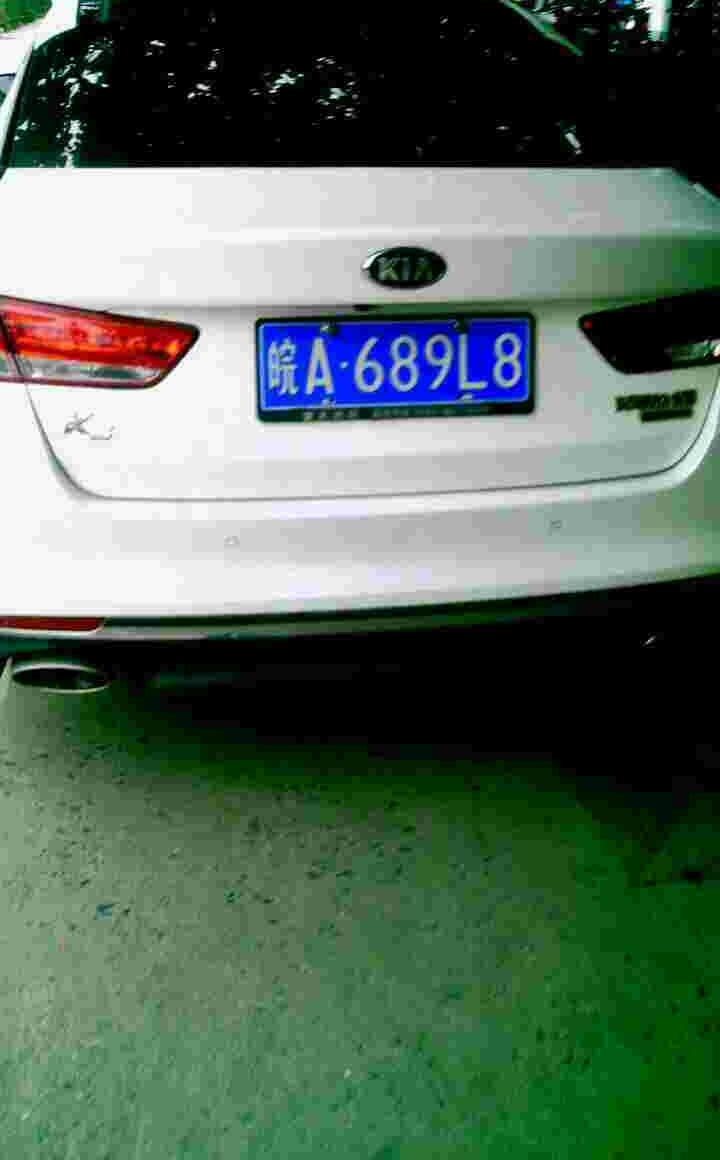license_plate: (256, 320, 524, 422)
